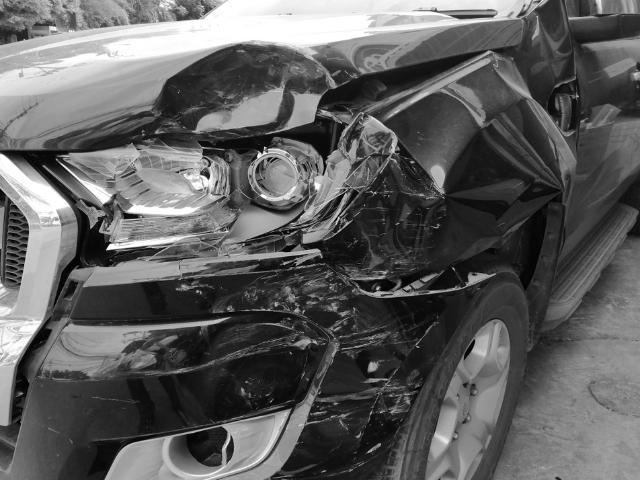Bonnet: (7, 14, 527, 143)
Bumper: (0, 251, 444, 478)
Fender: (322, 0, 576, 280)
Light: (48, 115, 392, 264)
